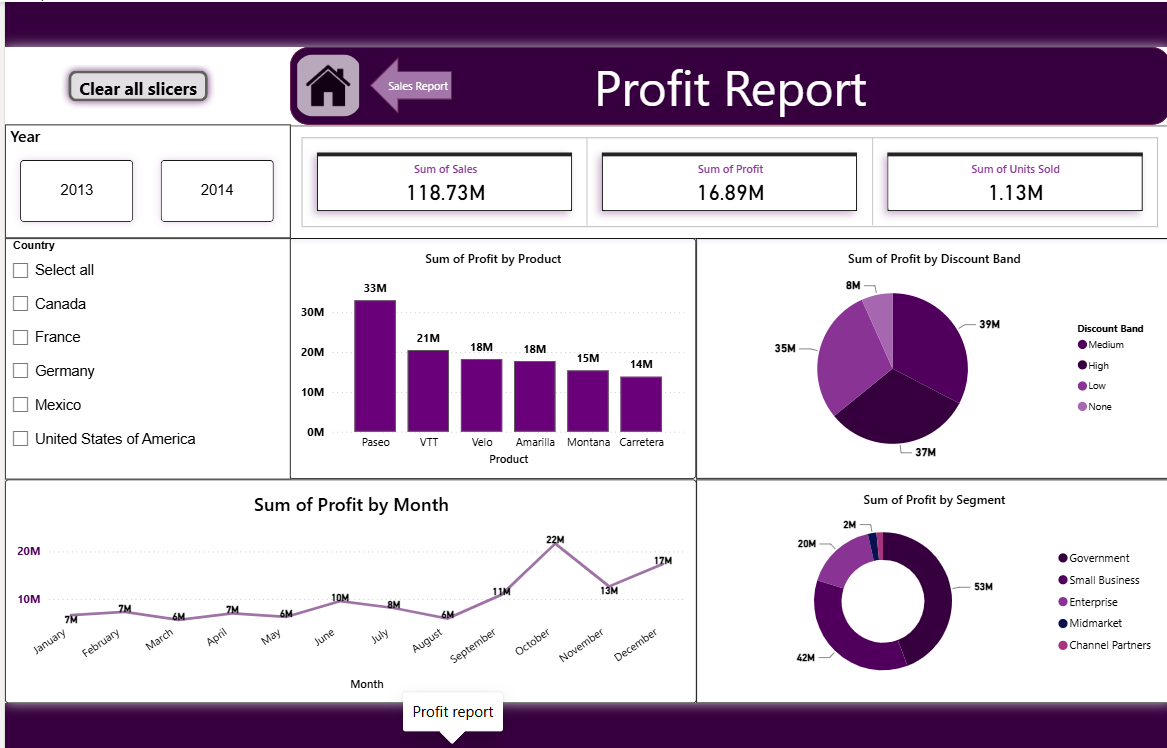

The page's visual inventory and layout, read from the dashboard file:
{"tool":"powerbi","page":{"name":"Profit report","canvas":[1280,720],"ordinal":2},"visuals":[{"type":"columnChart","title":"Sum of Profit by Product","fields":{"Y":["Sum(financials.Sales)"],"Category":["financials.Product"]},"box":[311.2,210,447.5,263.8],"z":0},{"type":"pieChart","title":"Sum of Profit  by Discount Band","fields":{"Y":["Sum(financials.Sales)"],"Category":["financials.Discount Band"]},"box":[758.6,210.1,521.4,264.2],"z":1000},{"type":"donutChart","title":"Sum of Profit  by Segment","fields":{"Y":["Sum(financials.Sales)"],"Category":["financials.Segment"]},"box":[758.6,474.4,521.4,245.6],"z":2000},{"type":"lineChart","title":"Sum of Profit by Month","fields":{"Category":["financials.Date.Variation.Date Hierarchy.Month"],"Y":["Sum(financials.Sales)"]},"box":[0,474.4,759,245.6],"z":3000},{"type":"cardVisual","fields":{"Data":["Sum(financials.Sales)","Sum(financials.Profit)","Sum(financials.Units Sold)"]},"box":[313,86,967,124],"z":4000},{"type":"slicer","fields":{"Values":["financials.Country"]},"box":[0,210,313.3,264.4],"z":5000},{"type":"advancedSlicerVisual","title":"Year","fields":{"Label":["Sum(financials.Sales)"],"Values":["financials.Date.Variation.Date Hierarchy.Year"]},"box":[0,85.6,313.3,124.4],"z":6000},{"type":"shape","box":[313.3,0,966.7,85.6],"z":7000},{"type":"actionButton","box":[61.1,17.8,168.9,50],"z":8000},{"type":"image","box":[318.3,8,72.7,68.3],"z":9000},{"type":"shape","box":[401.1,11.1,90,62.2],"z":10000}]}

Visuals, with their boxes on the page's 1280x720 design canvas (x1, y1, x2, y2). These are canvas units, not pixel positions in the 1167x748 screenshot, which may show the page scaled, cropped or inside an application window:
"Sum of Profit by Product" columnChart: [x1=311, y1=210, x2=759, y2=474]
"Sum of Profit  by Discount Band" pieChart: [x1=759, y1=210, x2=1280, y2=474]
"Sum of Profit  by Segment" donutChart: [x1=759, y1=474, x2=1280, y2=720]
"Sum of Profit by Month" lineChart: [x1=0, y1=474, x2=759, y2=720]
cardVisual - Sum(financials.Sales) x Sum(financials.Profit): [x1=313, y1=86, x2=1280, y2=210]
slicer - financials.Country: [x1=0, y1=210, x2=313, y2=474]
"Year" advancedSlicerVisual: [x1=0, y1=86, x2=313, y2=210]
shape: [x1=313, y1=0, x2=1280, y2=86]
actionButton: [x1=61, y1=18, x2=230, y2=68]
image: [x1=318, y1=8, x2=391, y2=76]
shape: [x1=401, y1=11, x2=491, y2=73]
